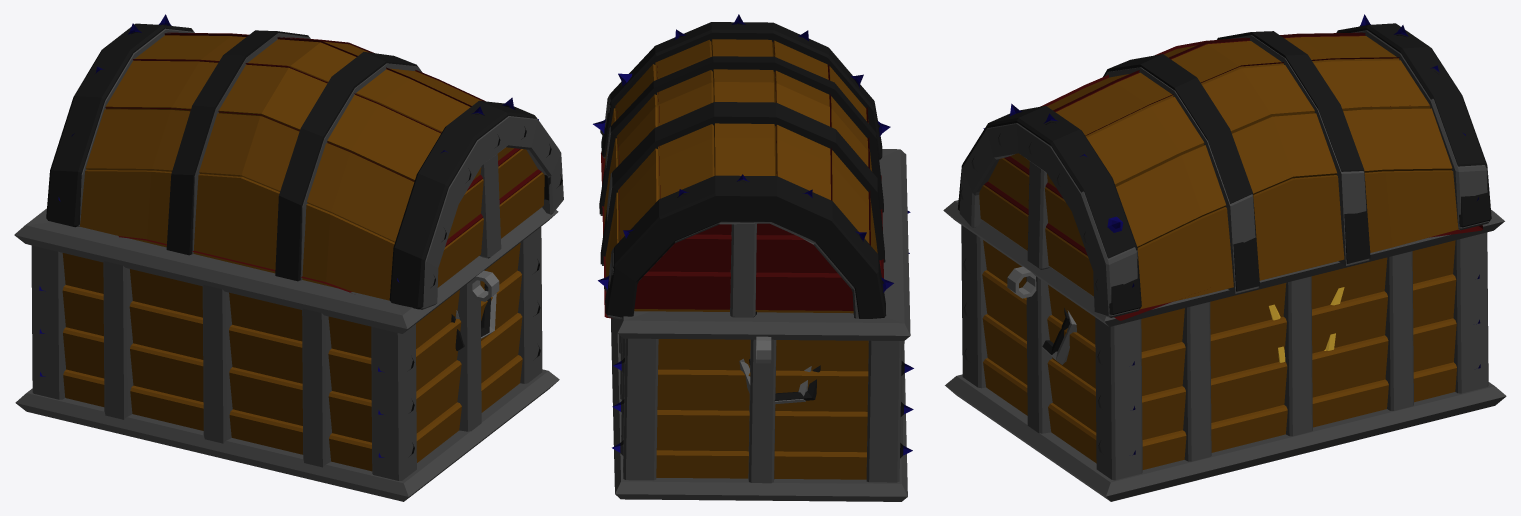
Rendered from Chests.fbx.
3 renders of one model, left to right at view 1: azimuth 30°, elevation 25°; view 2: azimuth 150°, elevation 25°; view 3: azimuth 270°, elevation 25°, orthographic. The views are drawn at different scales.
Visible parts, largest first — view 1: Chest_1_Bottom, Chest_1_Top, Chest_2_Top; view 2: Chest_1_Bottom, Chest_2_Top, Chest_1_Top, Chest_2_Handle_Right, Chest_1_Handle_Right; view 3: Chest_1_Bottom, Chest_1_Top, Chest_2_Top.
Boxes of the visible parts, bbox=[...] form: Chest_1_Bottom: bbox=[14, 207, 559, 501]; Chest_1_Top: bbox=[77, 24, 563, 309]; Chest_2_Top: bbox=[46, 14, 550, 309]; Chest_1_Bottom: bbox=[611, 149, 910, 501]; Chest_2_Top: bbox=[593, 14, 893, 318]; Chest_1_Top: bbox=[600, 23, 883, 319]; Chest_2_Handle_Right: bbox=[749, 359, 820, 400]; Chest_1_Handle_Right: bbox=[739, 358, 811, 404]; Chest_1_Bottom: bbox=[943, 200, 1506, 501]; Chest_1_Top: bbox=[959, 30, 1489, 317]; Chest_2_Top: bbox=[958, 14, 1491, 320].
Size of the model in its own units: 122 by 93.27 by 133.
